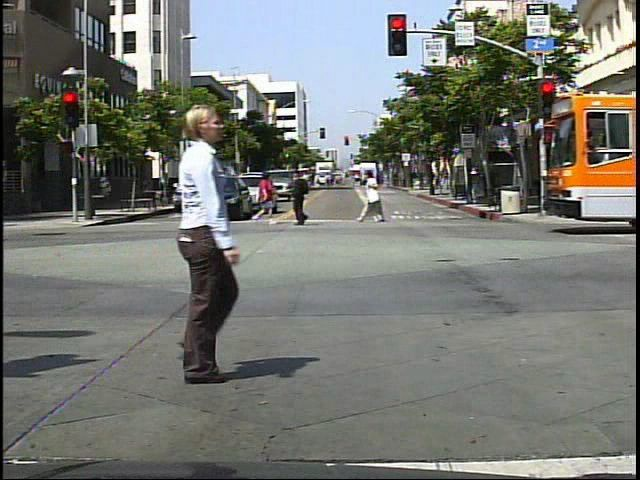person: (115, 91, 283, 397), (288, 163, 317, 229), (249, 168, 279, 227), (360, 167, 389, 227), (557, 160, 559, 208)
